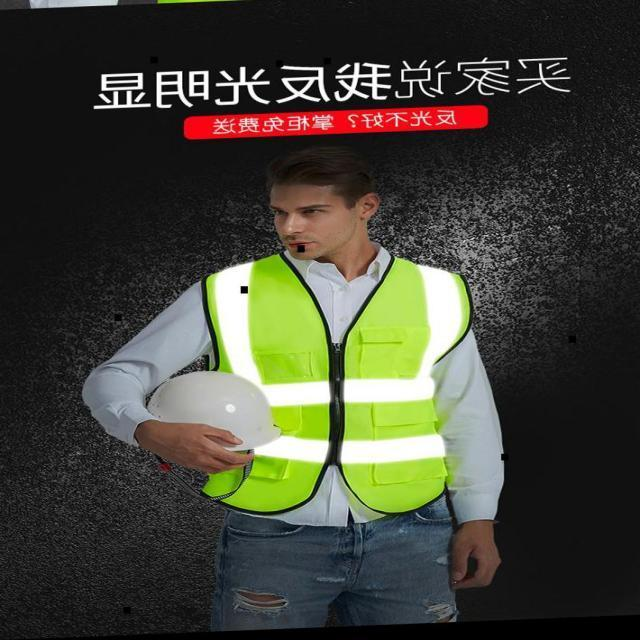safety_helmet: (202, 256, 472, 514)
